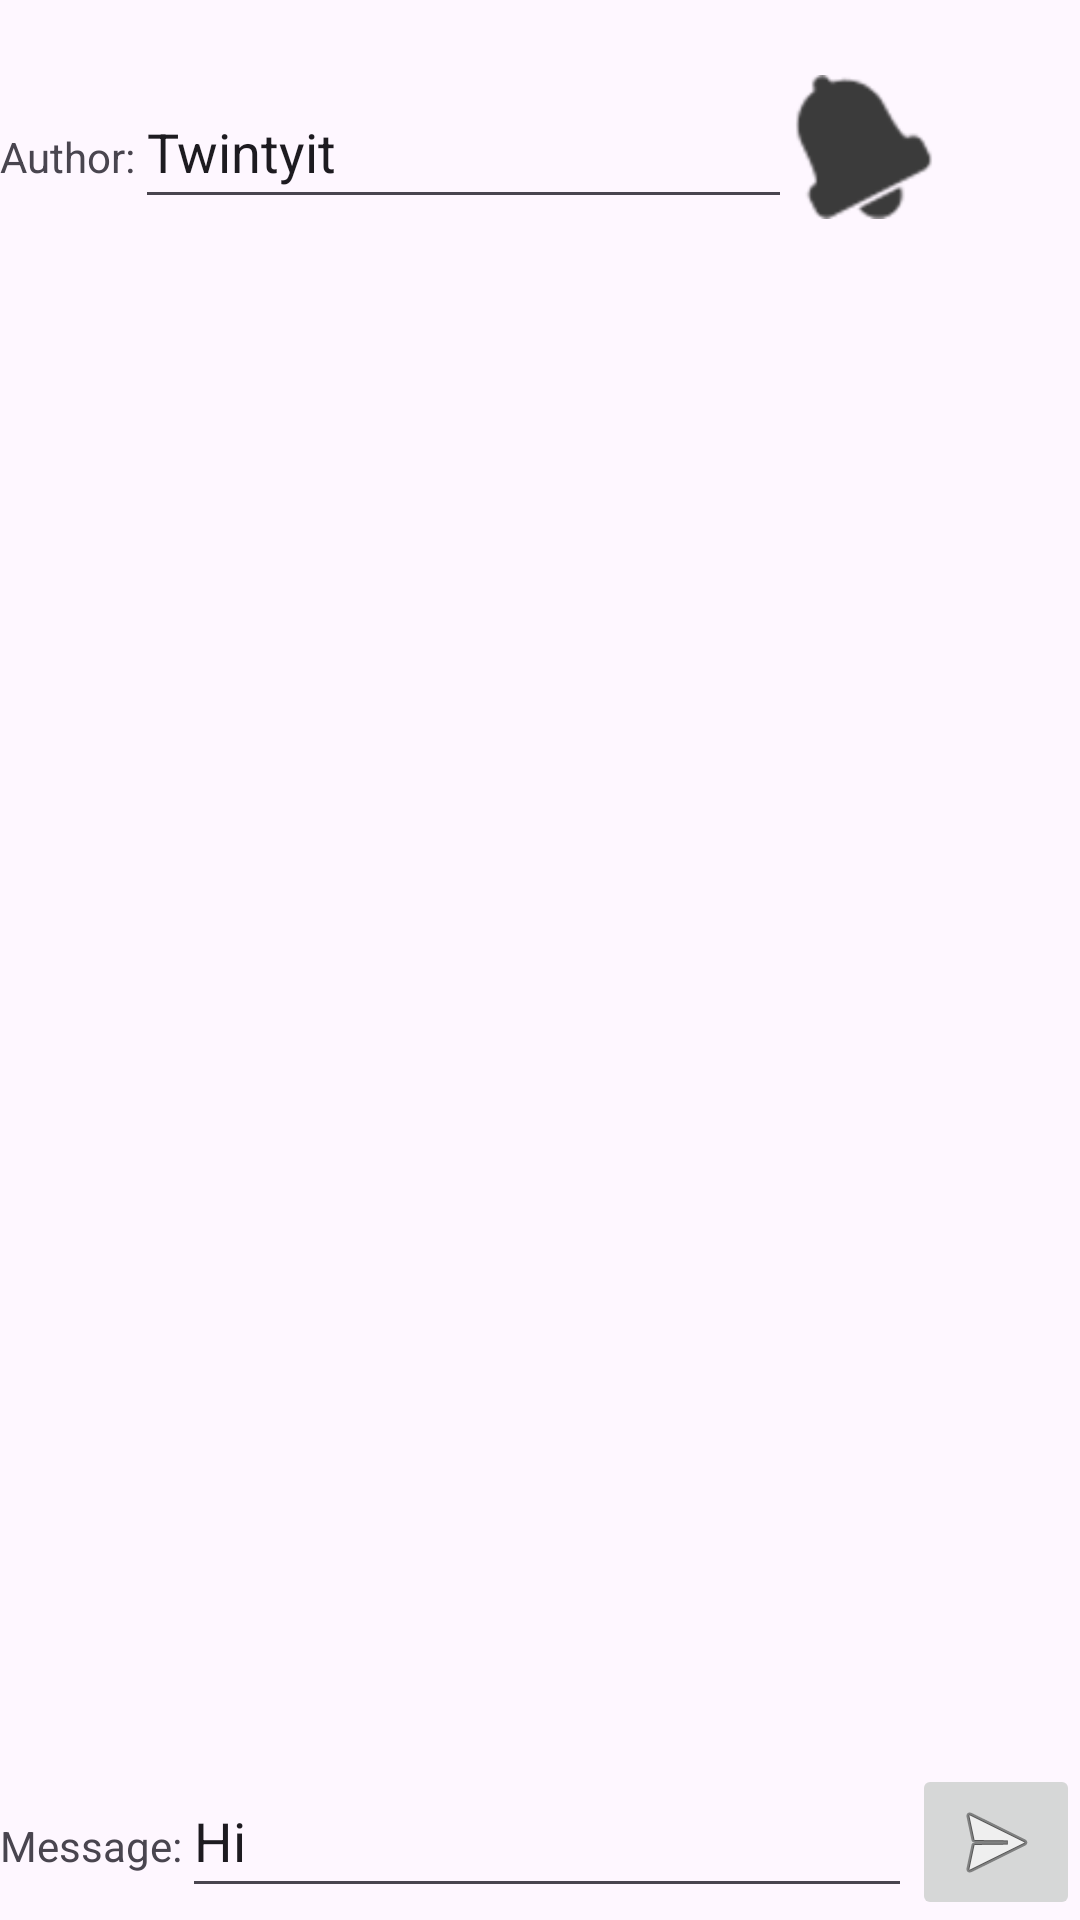

Where to tap for icons on this 1080*1920 app screen, as [x,y]:
popup reminder: [864,147]
Send: [996,1842]
